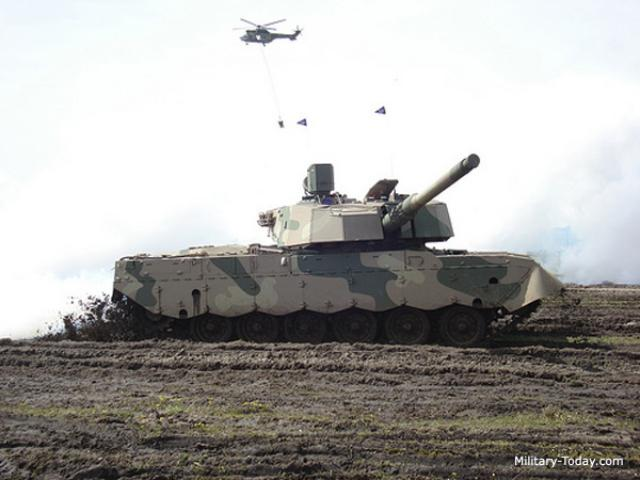tank: (119, 192, 552, 332)
